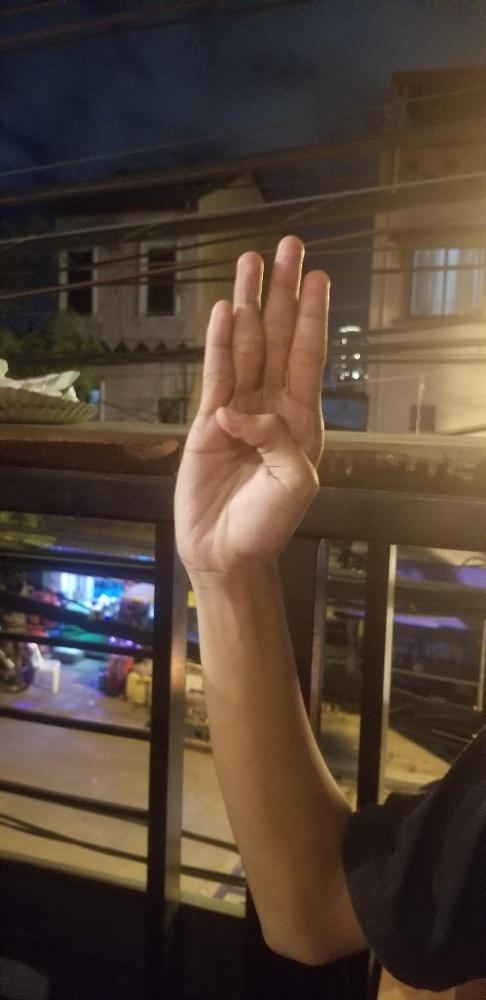b: (172, 232, 332, 567)
